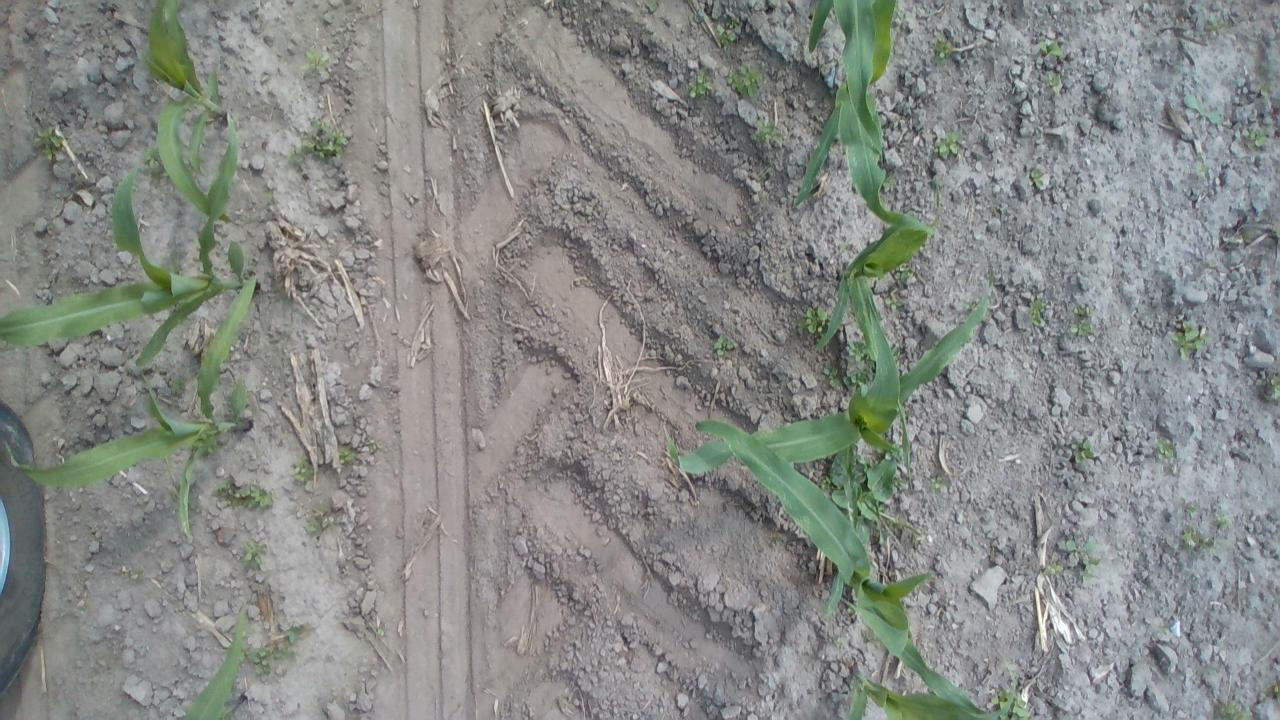Maize: (692, 411, 989, 715), (664, 276, 998, 484), (5, 273, 264, 540), (0, 114, 265, 374), (783, 1, 933, 238), (816, 207, 934, 444), (143, 0, 244, 230), (162, 600, 258, 720), (836, 660, 1020, 720)
Weeds: (826, 442, 908, 550), (287, 114, 353, 166), (1042, 532, 1102, 584), (988, 662, 1038, 718), (211, 478, 281, 512), (1168, 320, 1212, 362), (818, 570, 852, 620), (844, 340, 878, 389), (724, 59, 762, 98), (749, 112, 787, 150), (790, 303, 831, 338), (1180, 95, 1220, 128), (1178, 524, 1218, 557), (302, 500, 340, 533), (1068, 301, 1098, 340), (33, 122, 63, 160), (300, 46, 334, 78), (934, 128, 966, 162), (1070, 434, 1102, 468), (1208, 697, 1252, 720), (714, 16, 744, 46), (686, 67, 714, 99), (290, 452, 317, 484), (140, 142, 166, 174), (1152, 436, 1180, 464), (1038, 40, 1066, 66), (708, 333, 736, 359), (1025, 165, 1051, 192), (1031, 296, 1051, 330), (881, 286, 907, 312), (252, 645, 273, 676), (244, 543, 268, 570), (1254, 76, 1280, 100), (930, 36, 950, 66), (894, 263, 920, 286), (165, 373, 188, 398), (1247, 123, 1269, 149), (1205, 12, 1231, 34), (819, 362, 839, 390), (333, 444, 359, 465), (360, 436, 386, 456), (1044, 69, 1062, 95), (1211, 512, 1233, 533), (280, 625, 304, 642), (1182, 500, 1202, 520), (1191, 160, 1212, 178), (274, 645, 297, 661), (1267, 372, 1280, 398), (368, 622, 387, 638)
